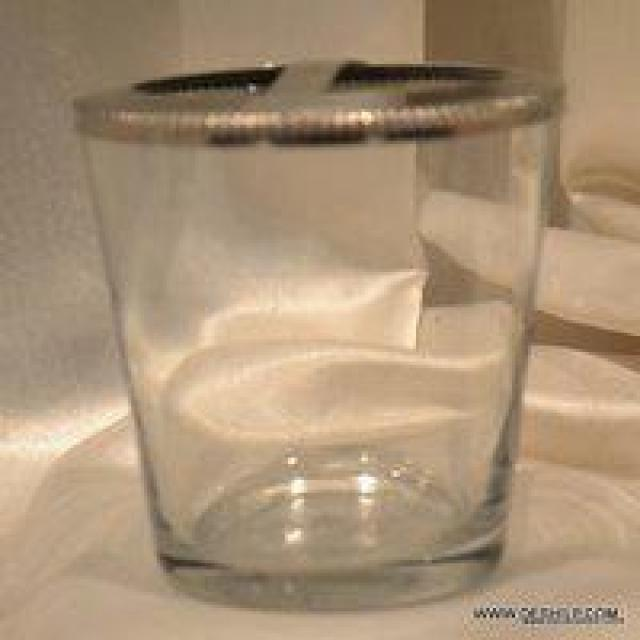glass: (56, 53, 571, 606)
